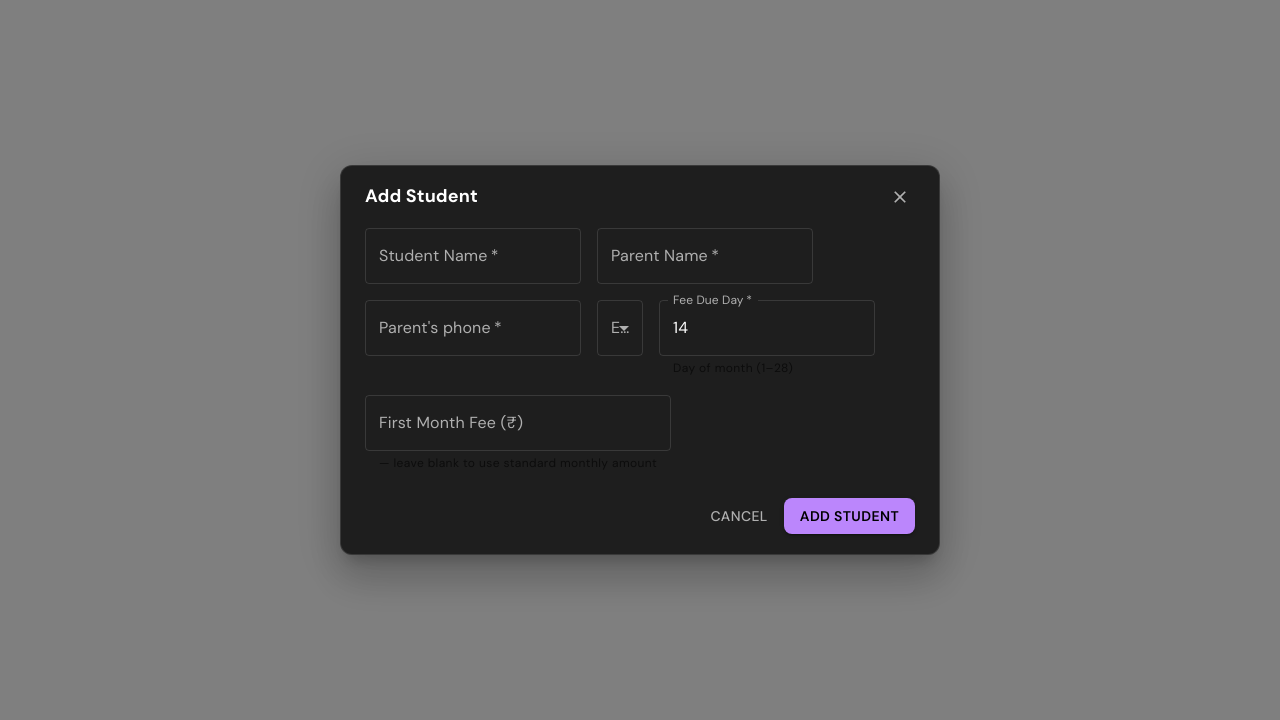
Test: AddStudentModal › shows API error when inviteStudent fails
The image size is (1280, 720).
Type "Rahul" into the field labelled "Student Name *".
click(473, 256); type("Rahul")  # box [365,228,581,284]
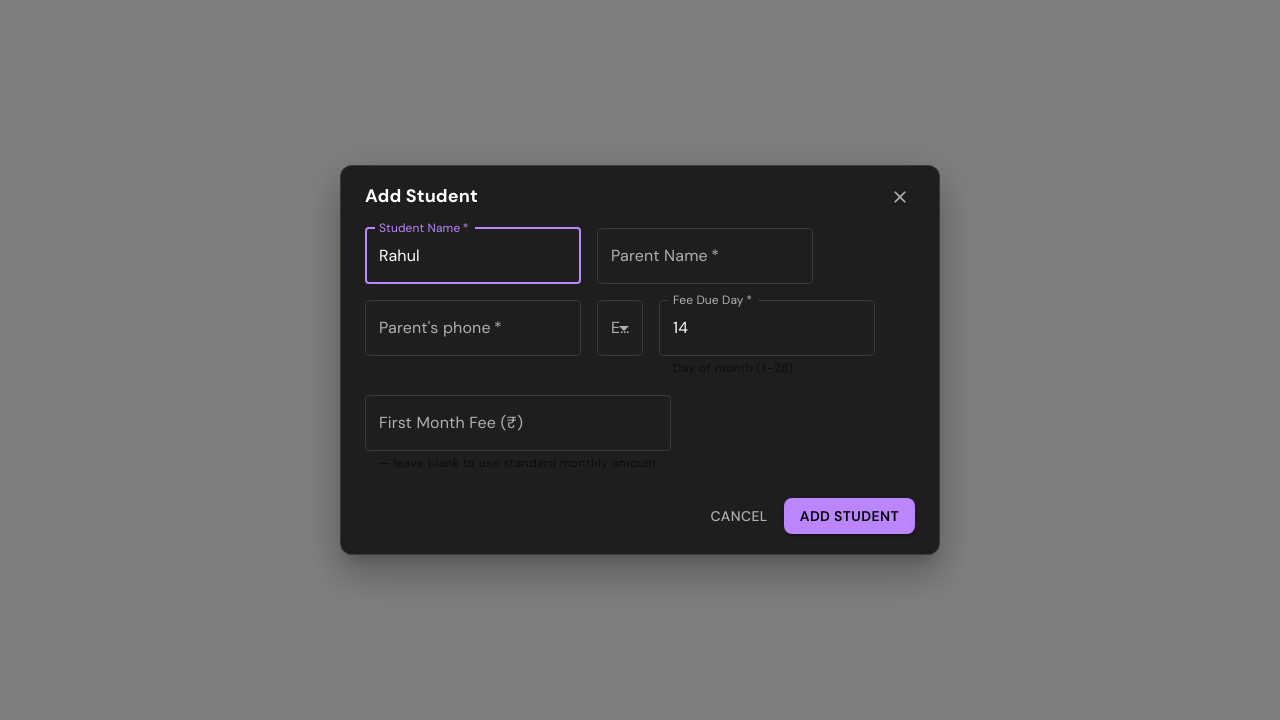
Type "Mr Sharma" into the field labelled "Parent Name *".
click(705, 256); type("Mr Sharma")  # box [597,228,813,284]
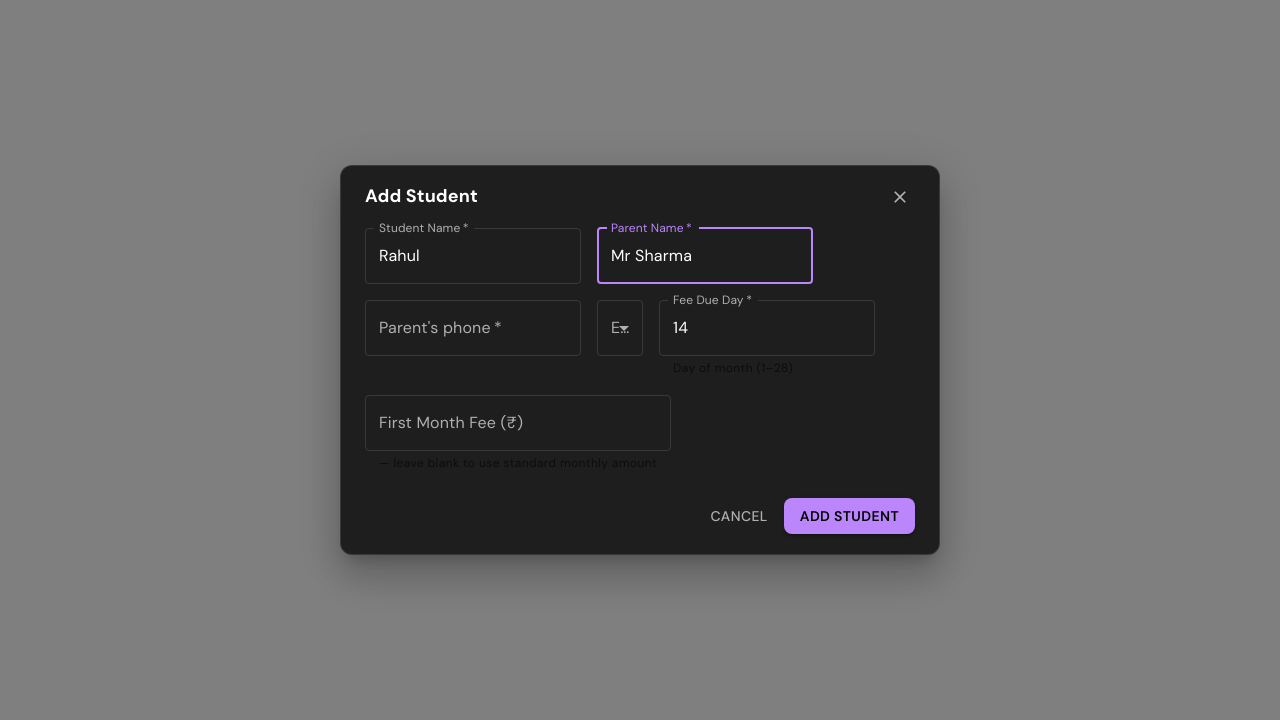
Type "9876543210" into the field labelled "Parent's phone *".
click(473, 328); type("9876543210")  # box [365,300,581,356]
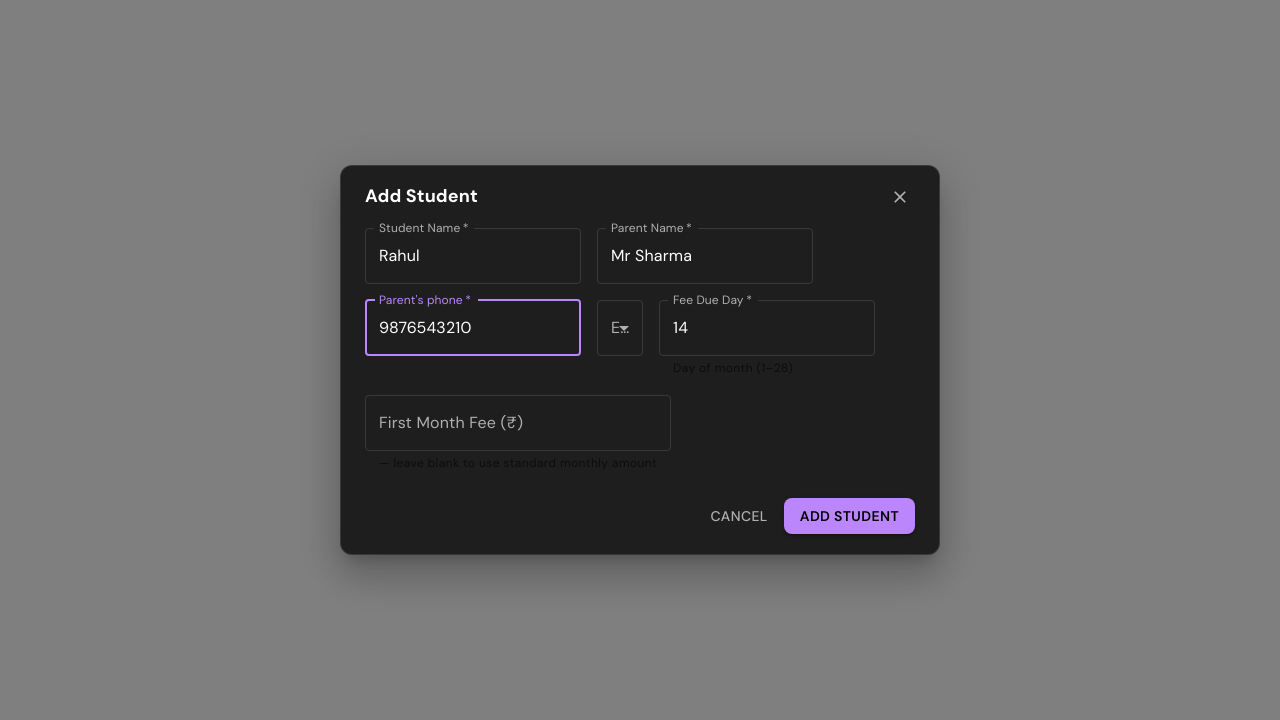
Press the mouse on the dropdown named "enroll in batch" at (620, 328), box [597,300,643,356]
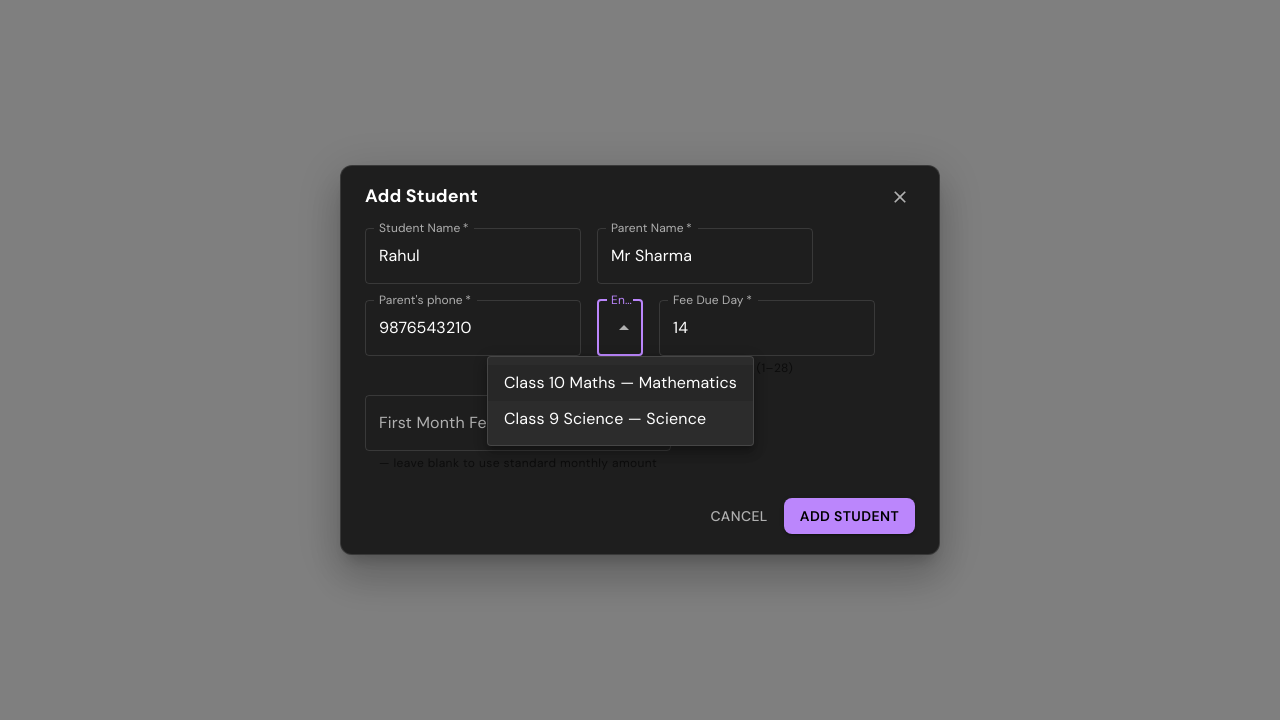
Click the option "Class 10 Maths — Mathematics".
click(620, 383)  # box [488,365,753,401]
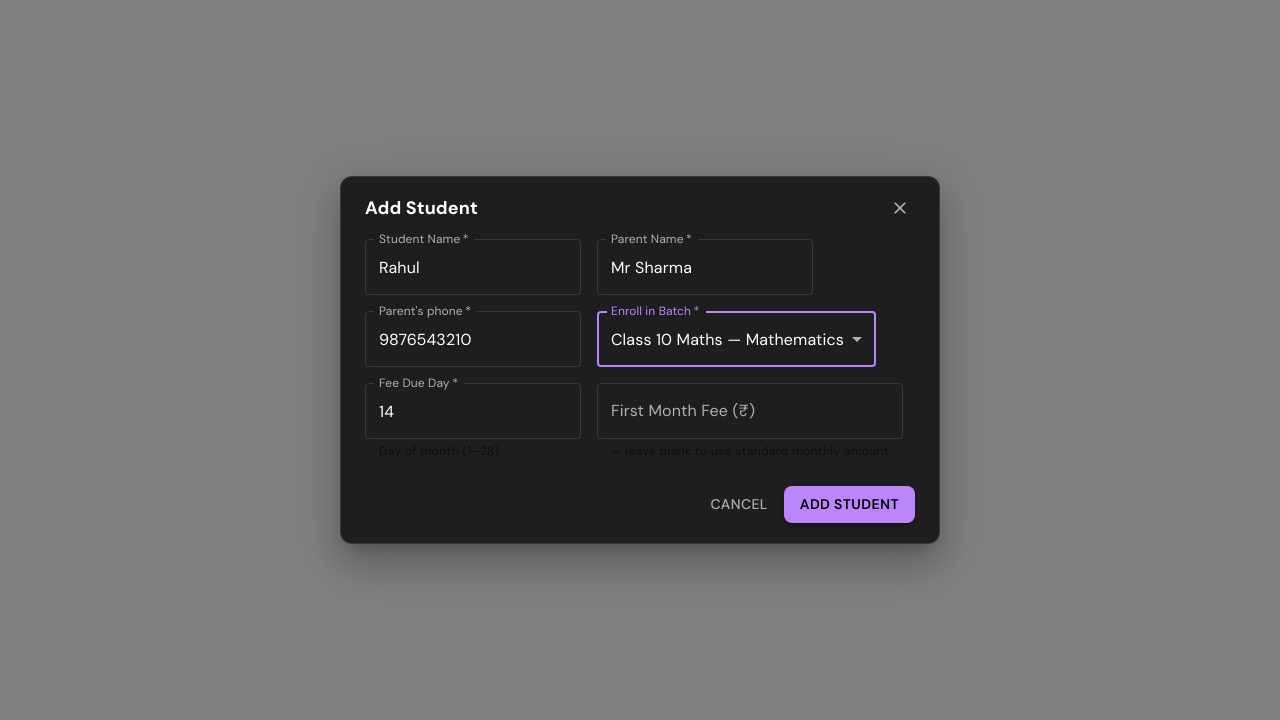
Click the button "Add Student".
click(849, 504)  # box [784,486,915,523]
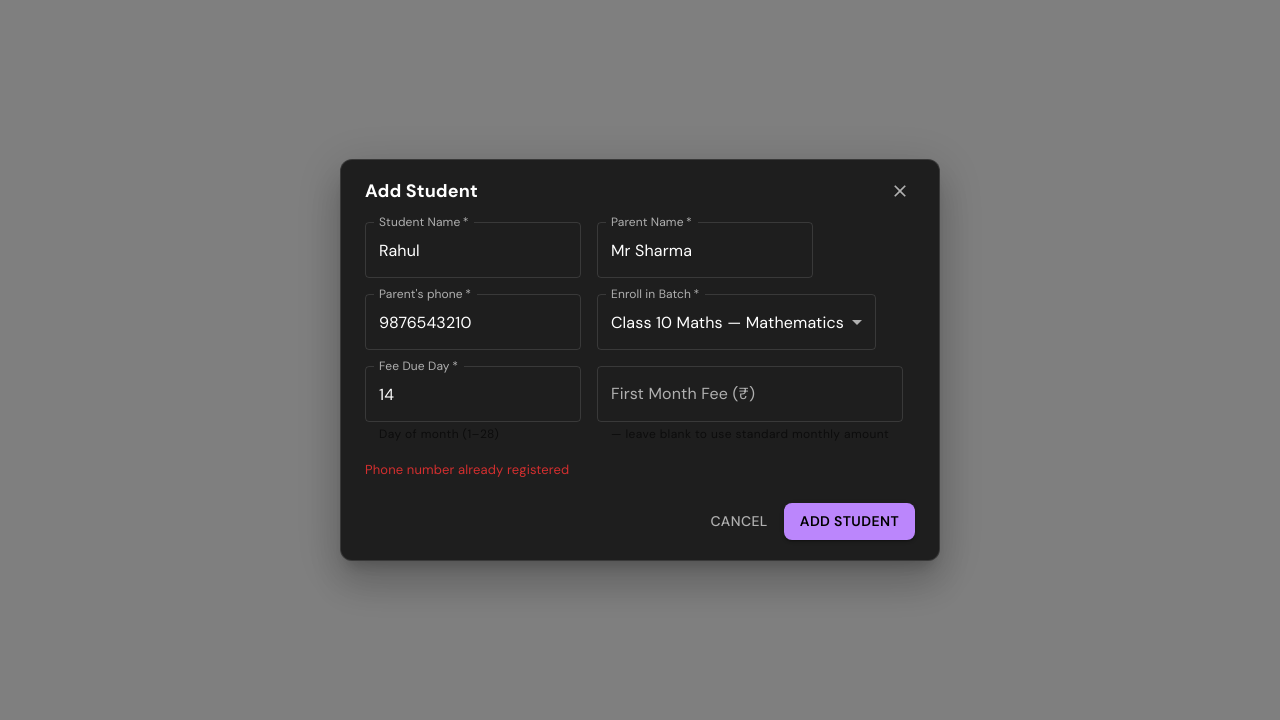
Now the text "Phone number already registered" is shown, box [365,461,569,478]
